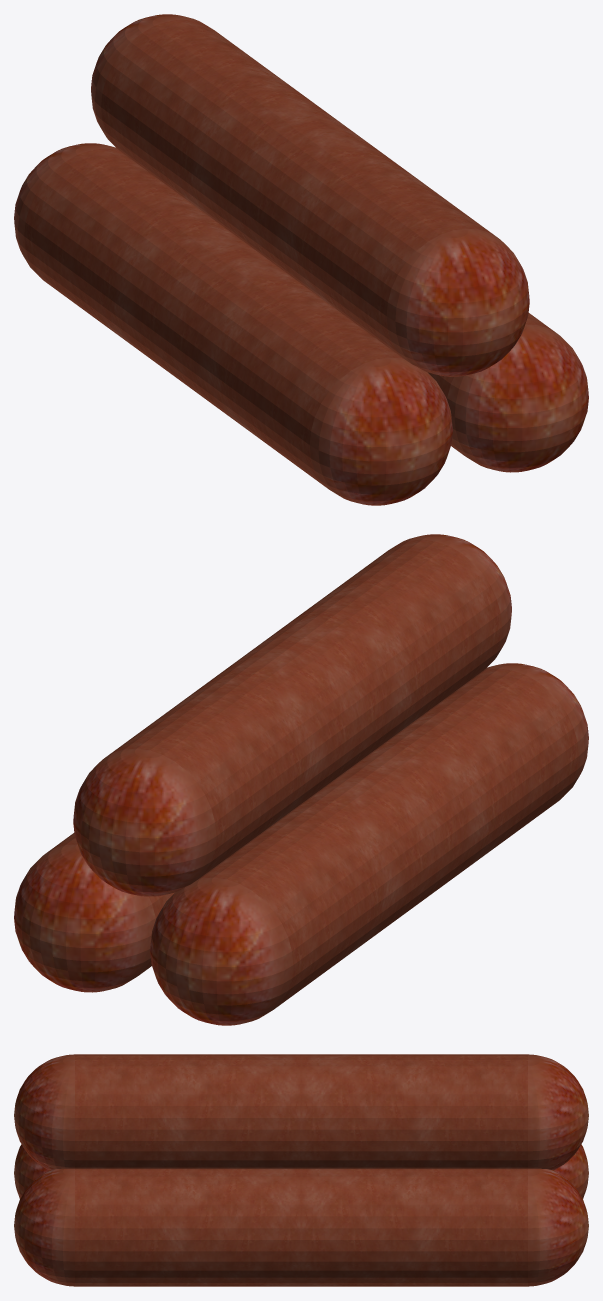
Rendered from Sauge.fbx.
3 renders of one model, top to bottom at view 1: azimuth 30°, elevation 25°; view 2: azimuth 150°, elevation 25°; view 3: azimuth 270°, elevation 25°, orthographic. The views are drawn at different scales.
Parts seen in each view (by area): view 1: Salchicha.004, Salchicha.003, Salchicha.001; view 2: Salchicha.004, Salchicha.003, Salchicha.001; view 3: Salchicha.001, Salchicha.004, Salchicha.003.
Boxes of the visible parts, <box> form: Salchicha.004: <box>91,14,529,376</box>; Salchicha.003: <box>14,143,452,505</box>; Salchicha.001: <box>428,313,588,472</box>; Salchicha.004: <box>73,534,511,896</box>; Salchicha.003: <box>150,663,588,1025</box>; Salchicha.001: <box>14,833,174,992</box>; Salchicha.001: <box>14,1168,588,1286</box>; Salchicha.004: <box>14,1054,588,1170</box>; Salchicha.003: <box>14,1144,588,1198</box>.
Size of the model in its own units: 3.22 by 2.85 by 7.5.
